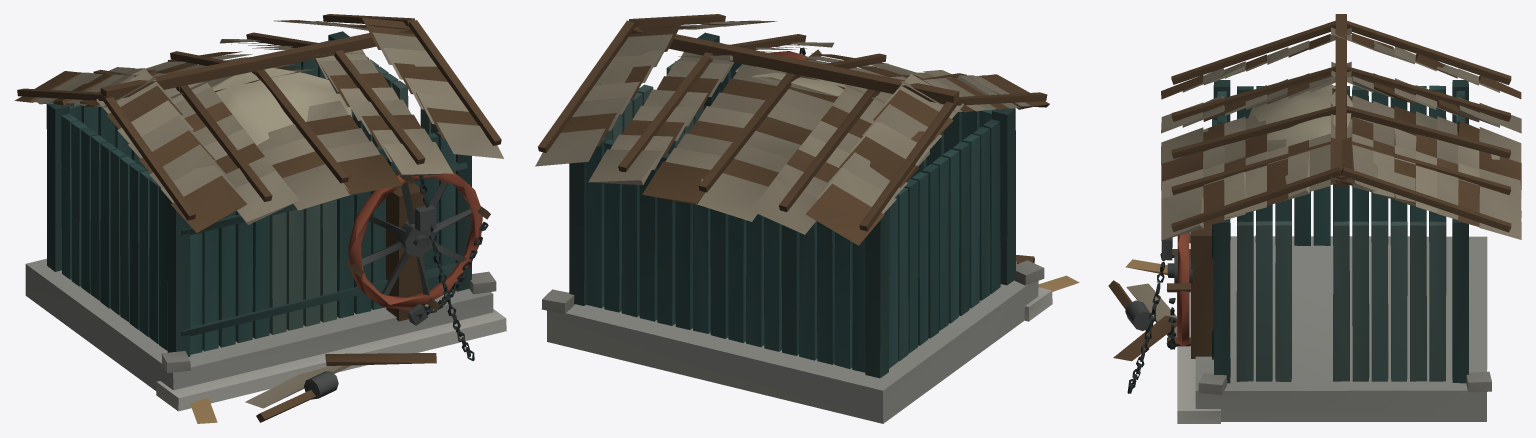
The model's file is gate_wheelhouse_b_lod2.glb.
3 renders of one model, left to right at view 1: azimuth 30°, elevation 25°; view 2: azimuth 150°, elevation 25°; view 3: azimuth 270°, elevation 25°, orthographic. The views are drawn at different scales.
Visible parts, largest first — view 1: Surface.001; view 2: Surface.001; view 3: Surface.001.
Part boxes in pixels (x1,y1,x2,y2): Surface.001: [14, 14, 506, 423]; Surface.001: [535, 14, 1079, 423]; Surface.001: [1108, 14, 1521, 423].
Bounding box in the file's own units: 7.54 × 5.63 × 8.11.
